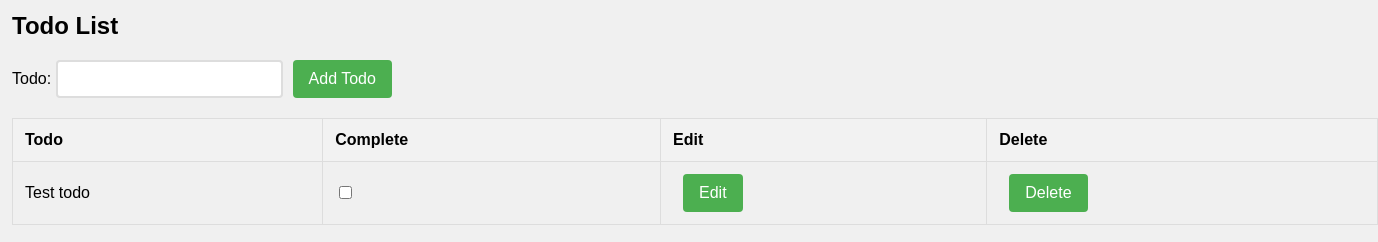
Scenario: Home Component › should start editing a todo
Step 1. Click the button "Edit" → coordinates (713, 193), box [683,174,743,212]
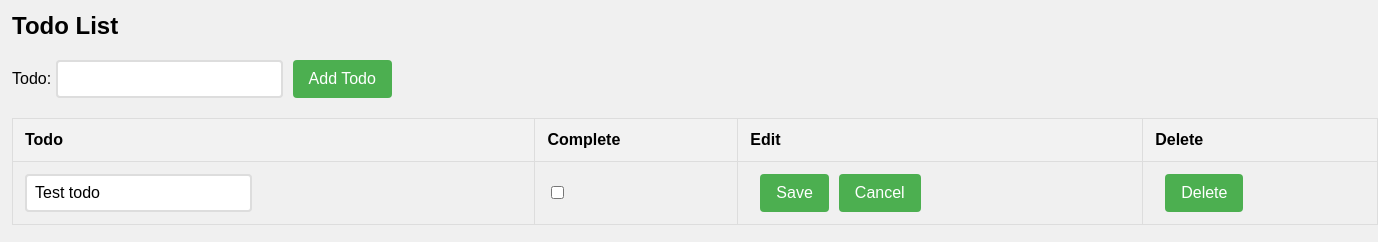
Expected: the field showing "Test todo" is shown, [25,174,252,212]
